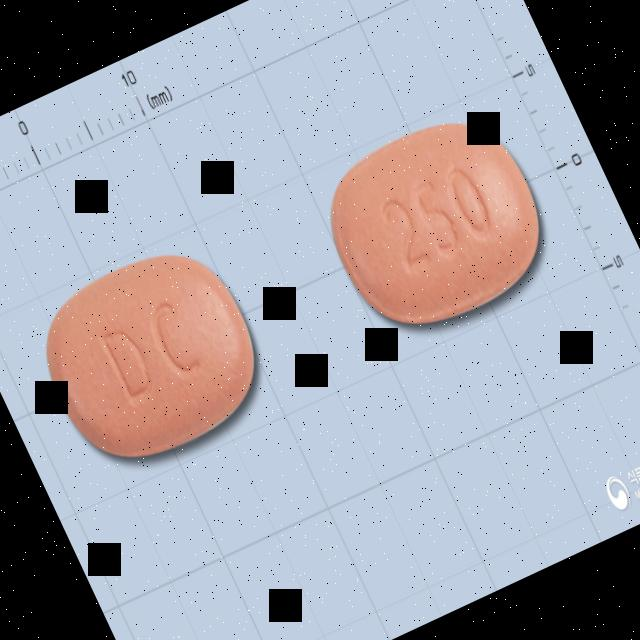Dongkoo Levofloxacin Hydrate Tab-250mg: (18, 228, 284, 487), (304, 95, 568, 352)
